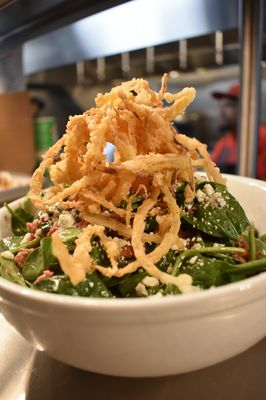soup: (5, 74, 263, 354)
sushi: (1, 71, 264, 380)
